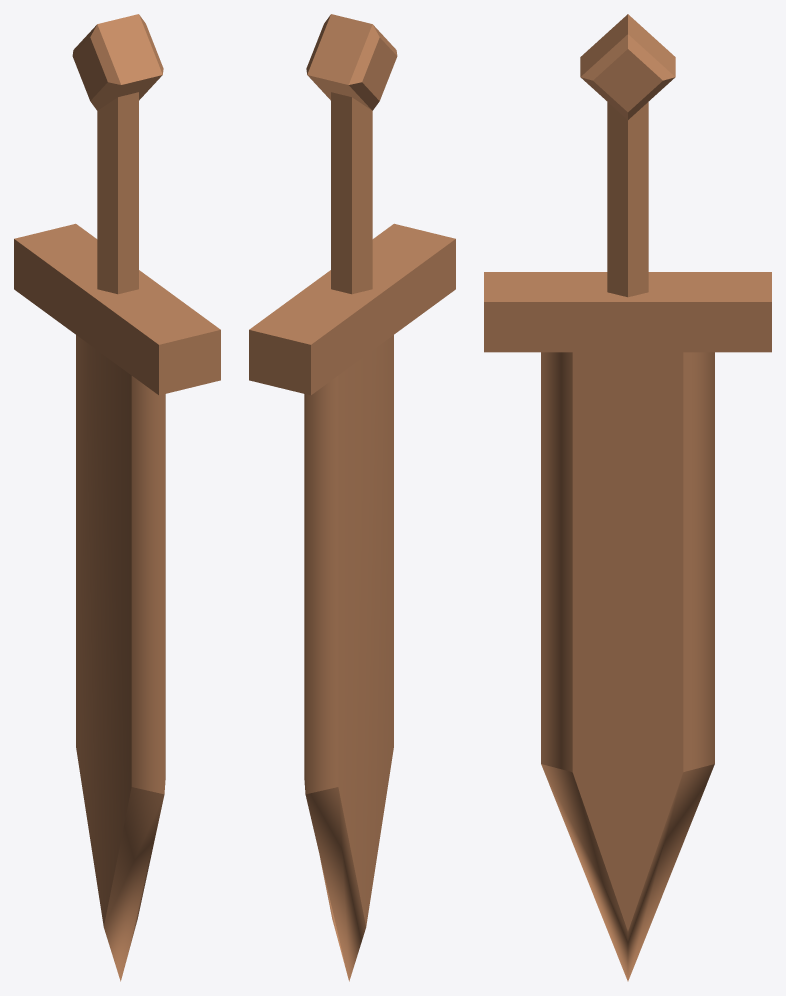
The model's file is 01_PROPS_Epee_V001.fbx.
3 views of the same model, side by side, from view 1: azimuth 30°, elevation 25°; view 2: azimuth 150°, elevation 25°; view 3: azimuth 270°, elevation 25° (orthographic).
Parts seen in each view (by area): view 1: Epee; view 2: Epee; view 3: Epee.
Part boxes in pixels (<box>): Epee: <box>14,14,220,981</box>; Epee: <box>249,14,455,981</box>; Epee: <box>484,14,771,981</box>.
Bounding box in the file's own units: 0.0748 × 1.11 × 0.3035.
